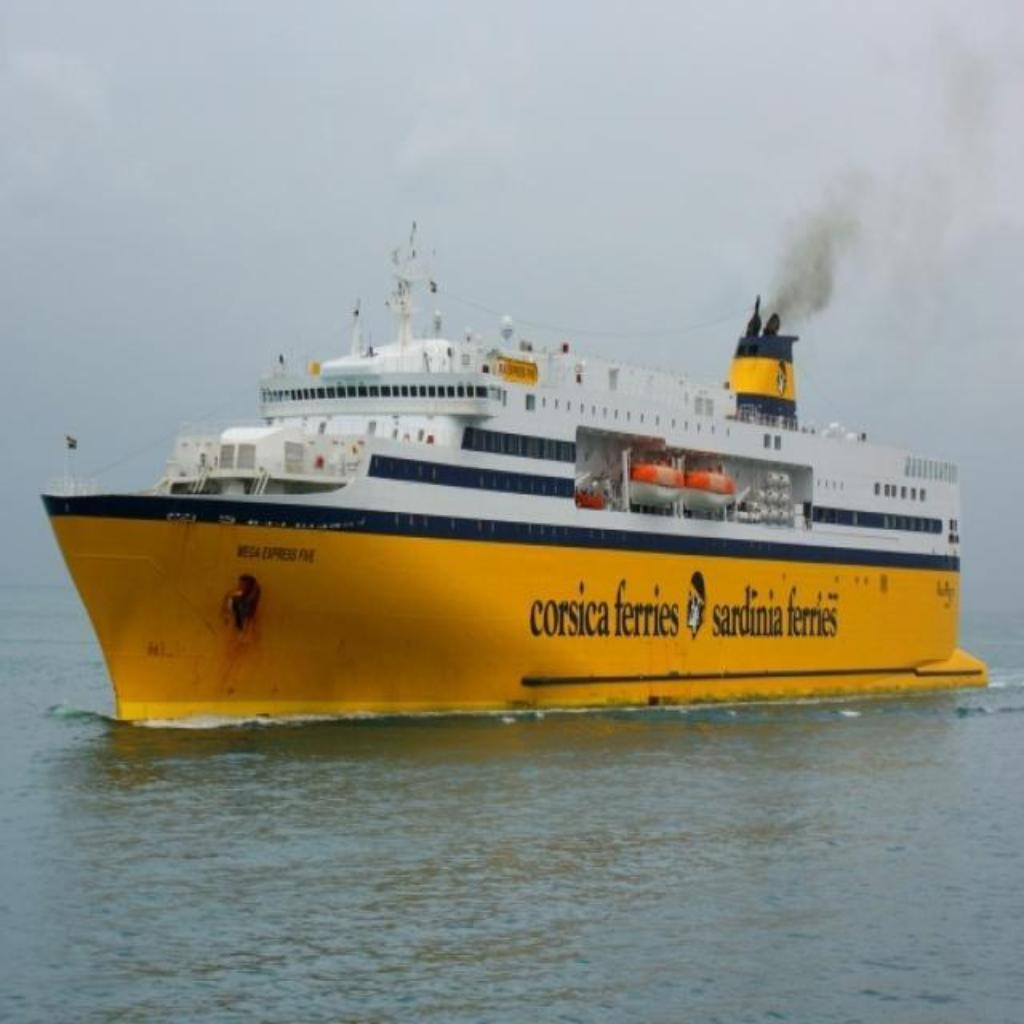PassengerShip: (41, 204, 997, 744)
